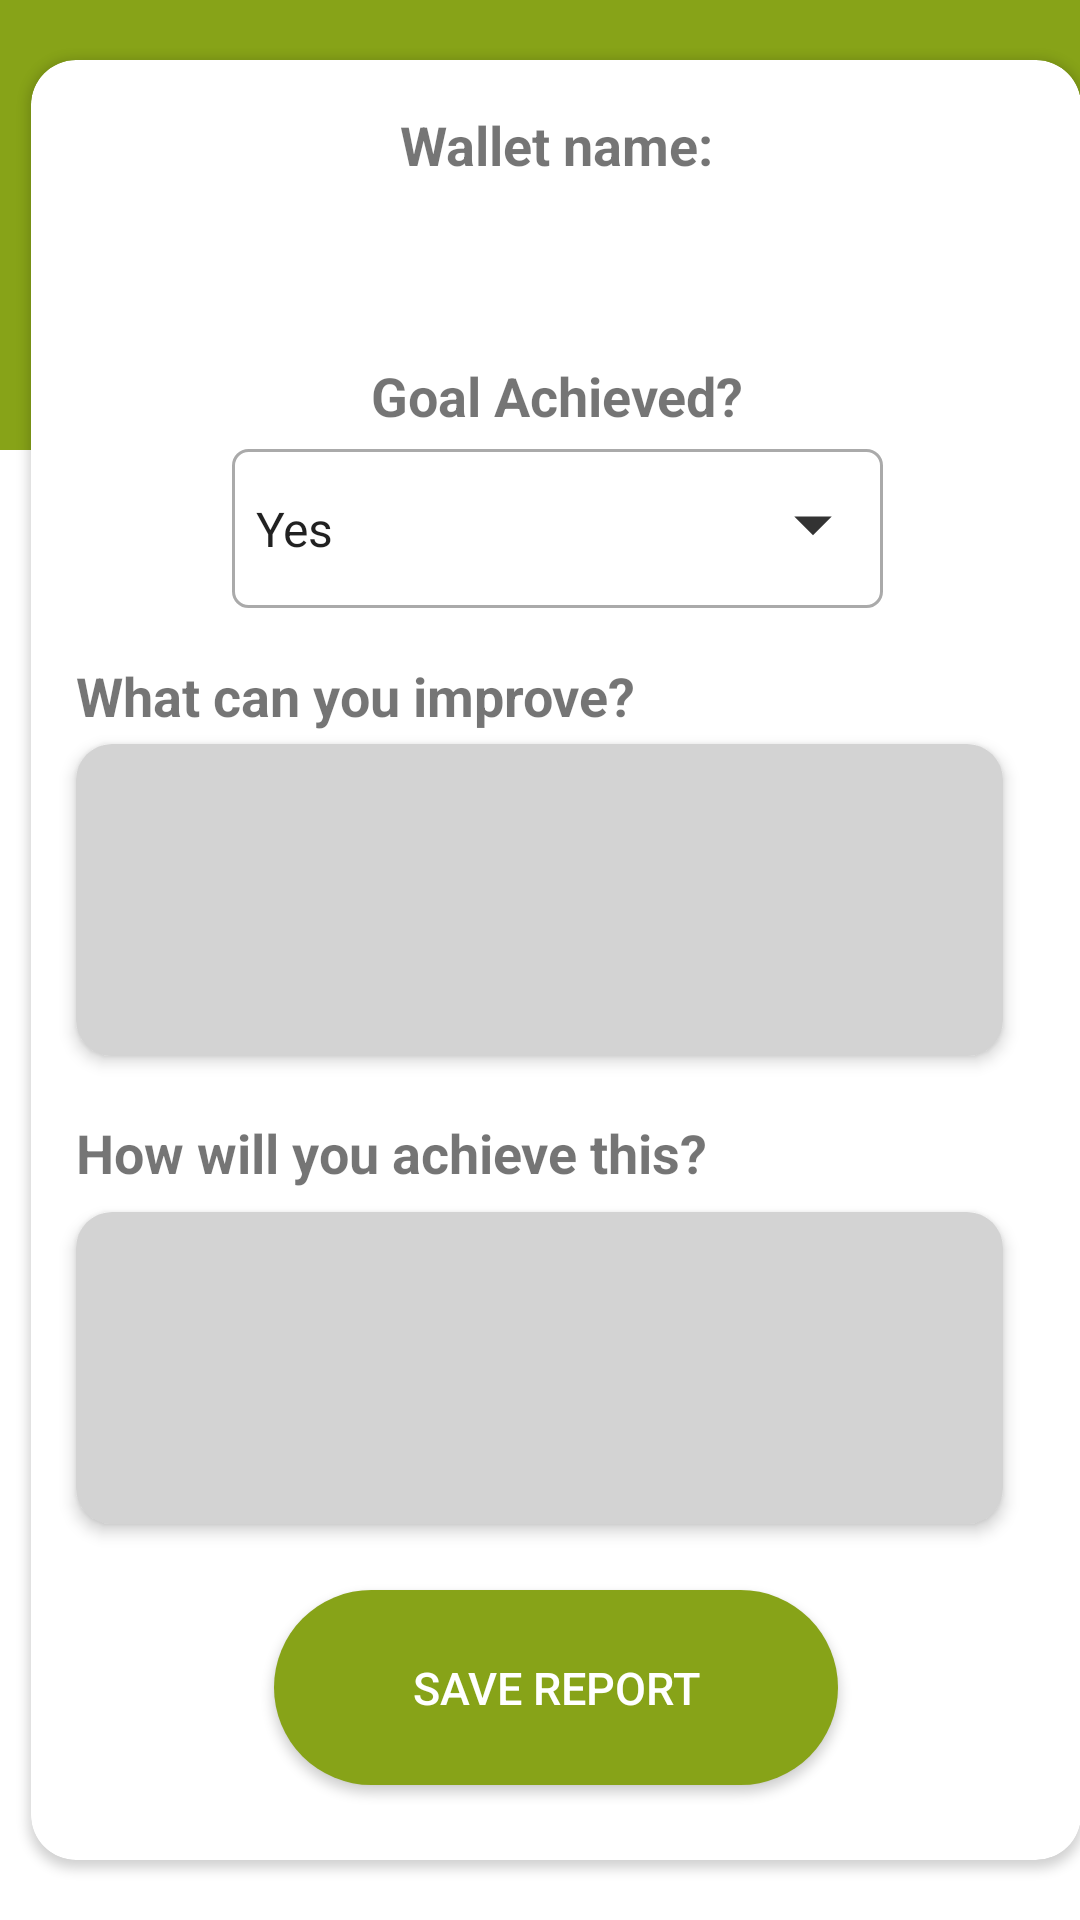

Icons on this 1080w x 1920h Android screen, each with its box as BBox(x1, y1, x2, y2):
Dropdown button: BBox(794, 516, 832, 535)
